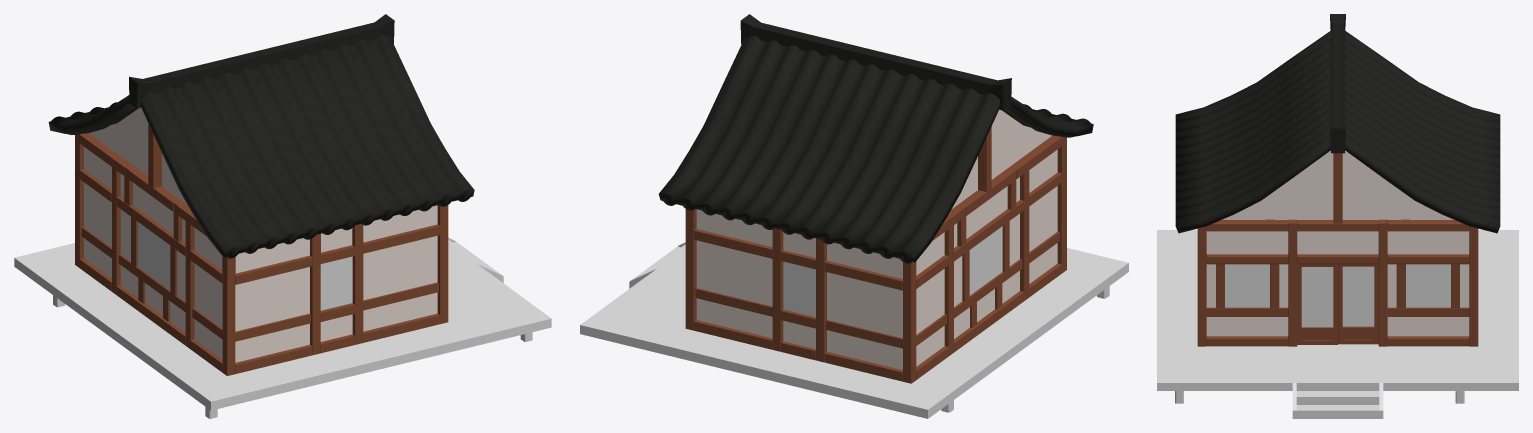
Rendered from Warehouse4.fbx.
3 views of the same model, side by side, from view 1: azimuth 30°, elevation 25°; view 2: azimuth 150°, elevation 25°; view 3: azimuth 270°, elevation 25° (orthographic). The views are drawn at different scales.
Parts seen in each view (by area): view 1: Plane.006, Cube.050, Cube.057, Cube.111, Cube.040, Cube.112, Cube.088, Cube.086, Cube.087, Plane, Cube.127, Cube.128 (+31 smaller); view 2: Plane.006, Cube.059, Cube.065, Cube.111, Cube.218, Cube.112, Cube.100, Cube.101, Cube.102, Plane, Cube.127, Cube.129 (+31 smaller); view 3: Plane.006, Plane, Cube.009, Cube.035, Cube.040, Cube.218, Cube.064, Cube.061, Cube.043, Cube.044, Cube.124, Cube.111 (+28 smaller).
Boxes of the visible parts, left/top/right/bottom form: Plane.006: left=48, top=35, right=474, bottom=258; Cube.050: left=363, top=235, right=437, bottom=331; Cube.057: left=235, top=267, right=309, bottom=362; Cube.111: left=129, top=14, right=394, bottom=108; Cube.040: left=444, top=282, right=551, bottom=347; Cube.112: left=120, top=209, right=185, bottom=332; Cube.088: left=186, top=365, right=296, bottom=410; Cube.086: left=359, top=323, right=466, bottom=368; Cube.087: left=274, top=344, right=381, bottom=389; Plane: left=89, top=108, right=187, bottom=204; Cube.127: left=137, top=338, right=224, bottom=392; Cube.128: left=88, top=302, right=175, bottom=356; Plane.006: left=659, top=35, right=1093, bottom=263; Cube.059: left=696, top=240, right=772, bottom=338; Cube.065: left=827, top=272, right=902, bottom=369; Cube.111: left=740, top=14, right=1011, bottom=110; Cube.218: left=580, top=288, right=688, bottom=355; Cube.112: left=954, top=213, right=1019, bottom=338; Cube.100: left=841, top=372, right=952, bottom=418; Cube.101: left=754, top=351, right=863, bottom=397; Cube.102: left=667, top=329, right=775, bottom=376; Plane: left=952, top=109, right=1051, bottom=208; Cube.127: left=1014, top=271, right=1103, bottom=326; Cube.129: left=914, top=345, right=1003, bottom=400; Plane.006: left=1175, top=30, right=1500, bottom=233; Plane: left=1222, top=150, right=1453, bottom=219; Cube.009: left=1206, top=264, right=1288, bottom=336; Cube.035: left=1387, top=264, right=1469, bottom=336; Cube.040: left=1157, top=344, right=1247, bottom=390; Cube.218: left=1428, top=344, right=1518, bottom=390; Cube.064: left=1338, top=344, right=1428, bottom=390; Cube.061: left=1247, top=345, right=1337, bottom=390; Cube.043: left=1297, top=264, right=1337, bottom=344; Cube.044: left=1338, top=264, right=1378, bottom=344; Cube.124: left=1292, top=383, right=1383, bottom=418; Cube.111: left=1330, top=14, right=1345, bottom=153.
Bounding box in the file's own units: 860 × 609 × 800.
